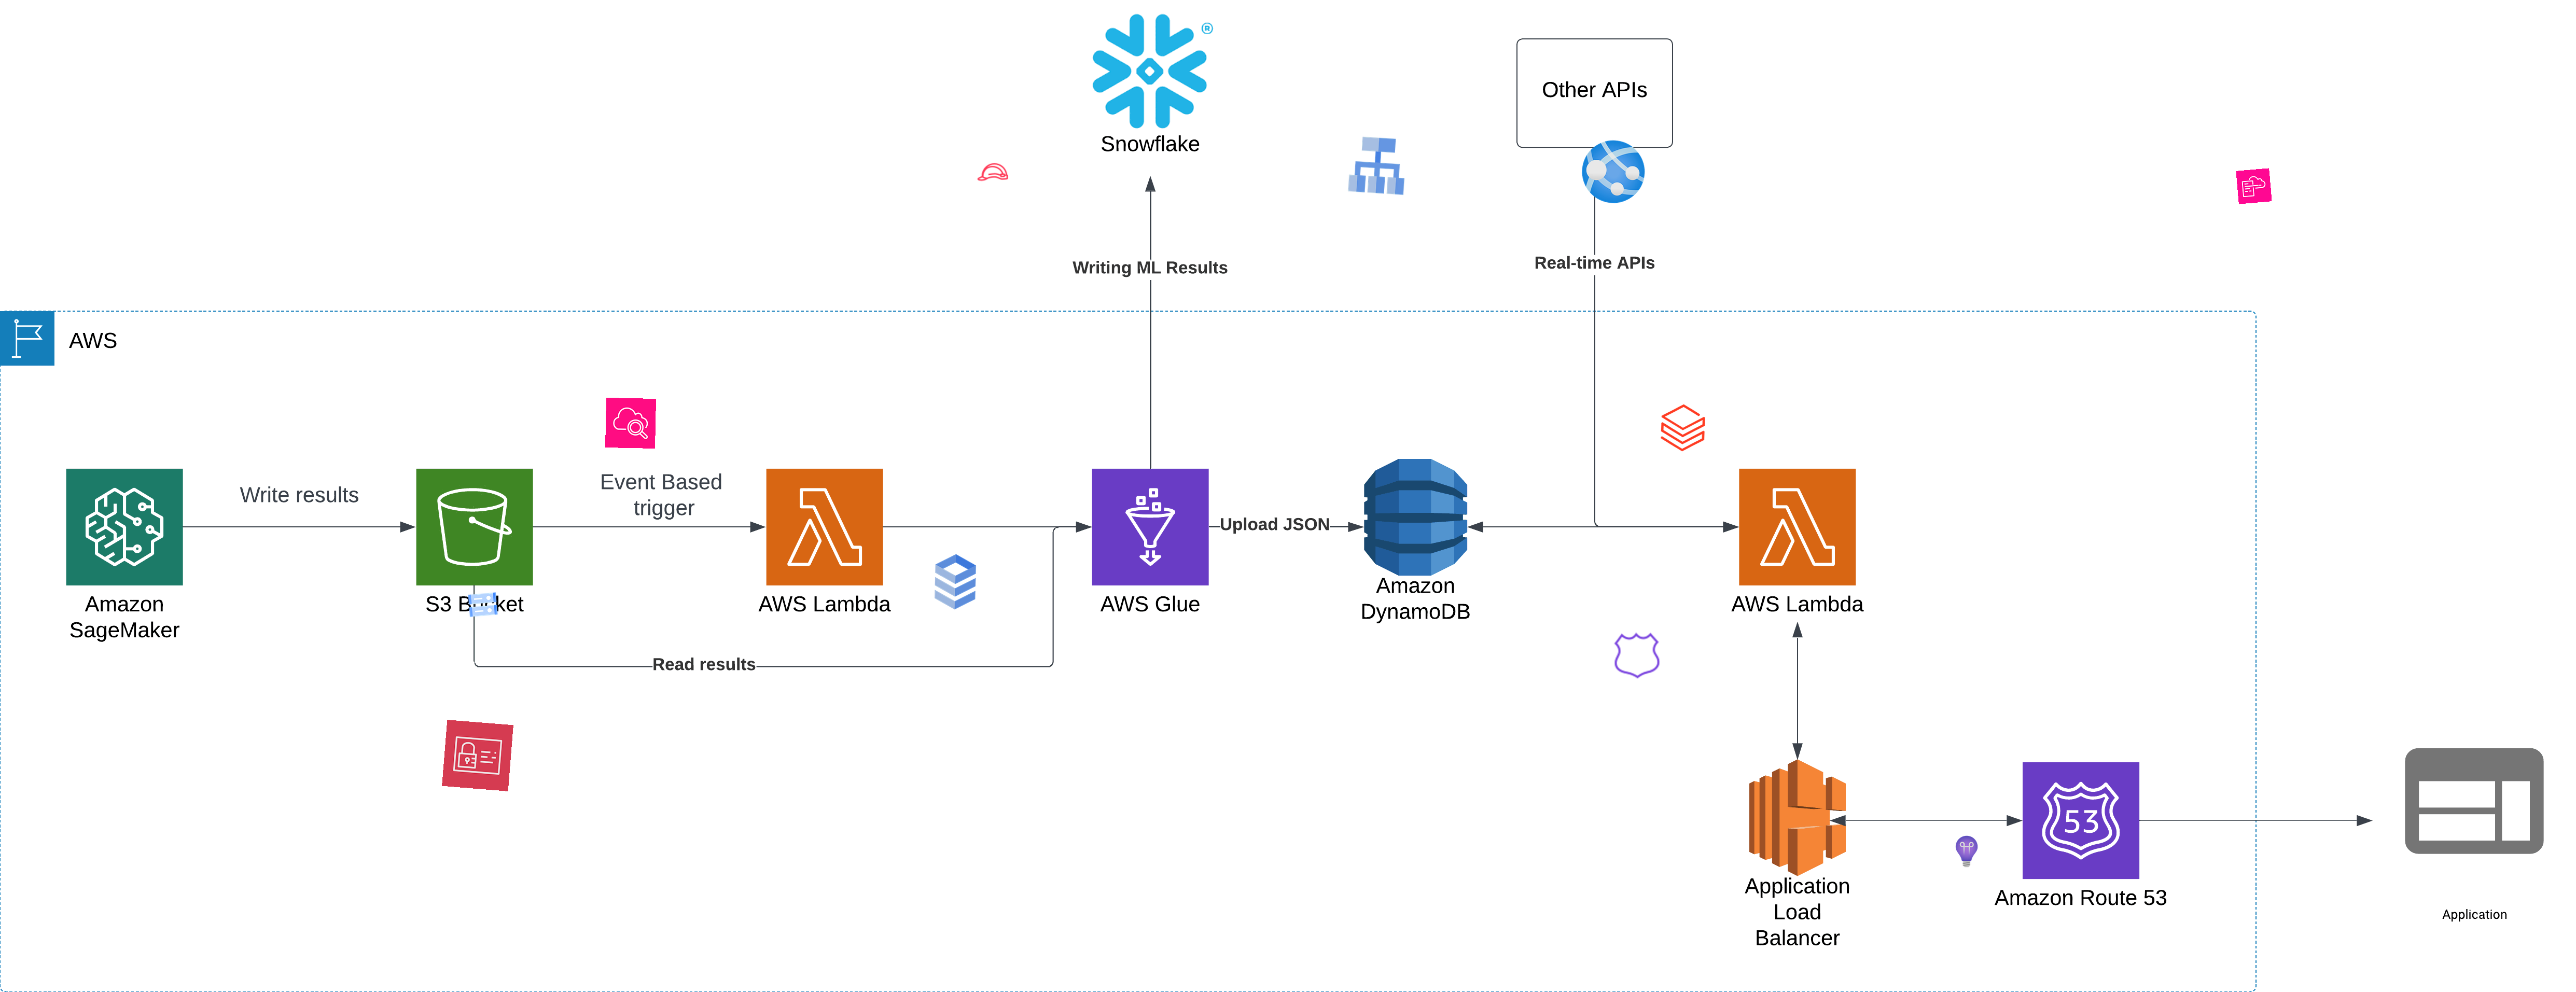aws_amazon_cloudwatch: (605, 397, 657, 448)
aws_cloudformation: (2236, 168, 2272, 204)
aws_identity_access_management_role: (976, 154, 1010, 189)
aws_identity_and_access_management: (442, 719, 514, 792)
aws_route_53_hosted_zone: (1612, 629, 1663, 682)
azure_app_services: (1579, 138, 1648, 205)
azure_application_insights: (1950, 834, 1983, 869)
azure_databricks: (1658, 402, 1709, 453)
gcp_cloud_load_balancing: (1342, 130, 1413, 202)
gcp_cloud_sql: (922, 547, 989, 616)
gcp_cloud_storage: (465, 586, 501, 622)
